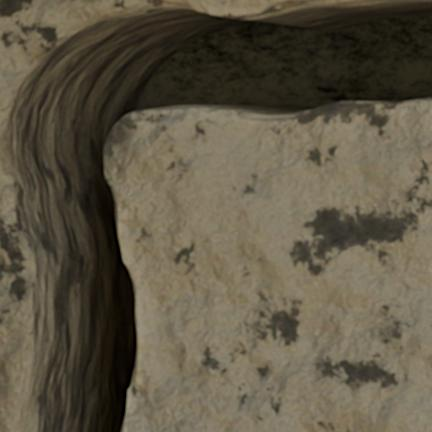crack: (0, 0, 431, 431), (364, 388, 431, 431)
